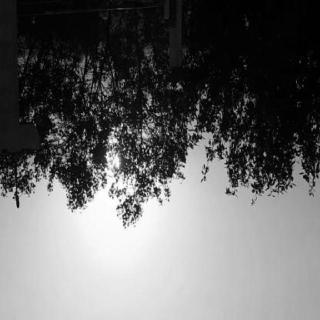other: (74, 126, 156, 259)
